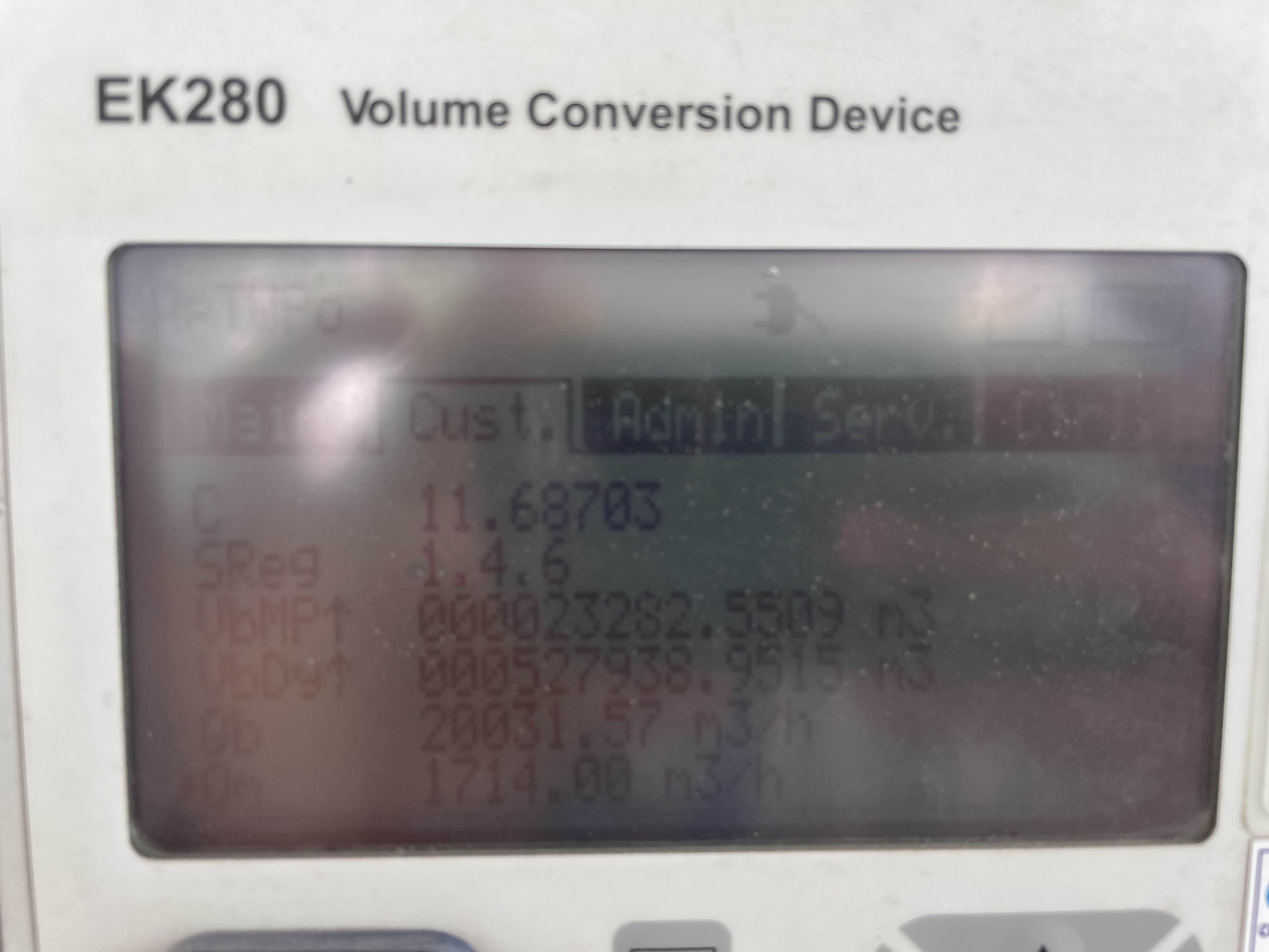digital_screen: (112, 244, 1248, 855)
